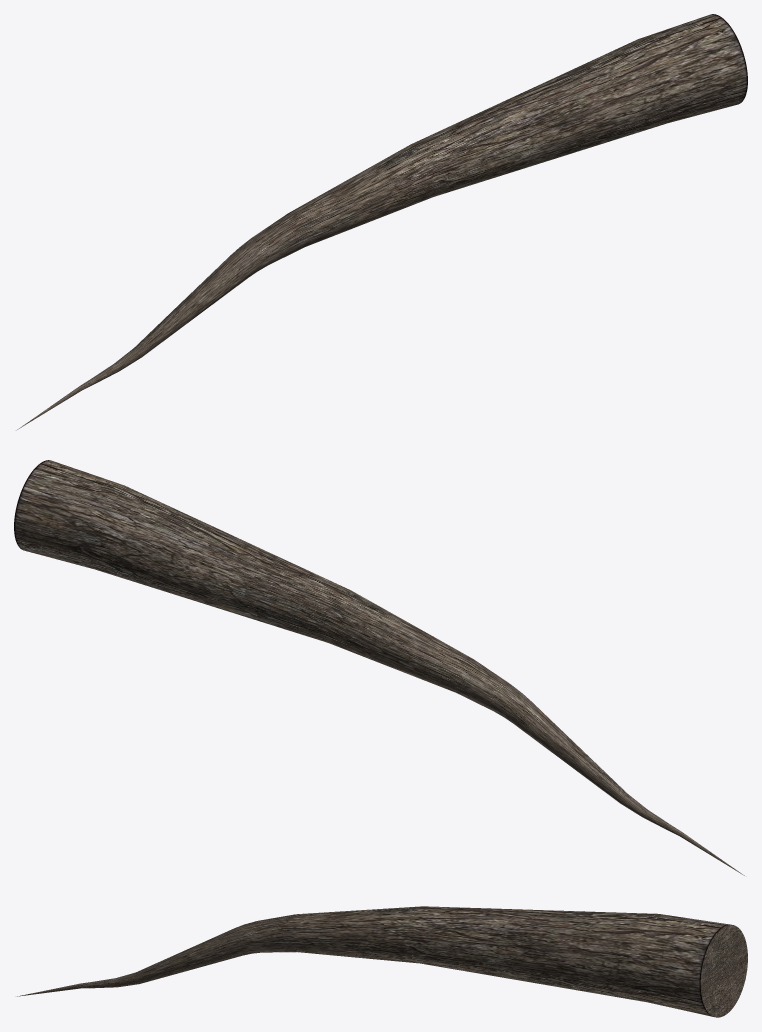
Rendered from ast.dae.
3 views of the same model, one above another, from view 1: azimuth 30°, elevation 25°; view 2: azimuth 150°, elevation 25°; view 3: azimuth 330°, elevation 25° (orthographic).
Visible parts, largest first — view 1: ast; view 2: ast; view 3: ast.
Part boxes in pixels (box(x1,y1,x2,y2)): ast: box(16, 14, 747, 430); ast: box(14, 460, 744, 875); ast: box(17, 906, 747, 1017).
Bounding box in the file's own units: 2.19 × 0.25 × 0.7081.
1 material, 1 textured.
